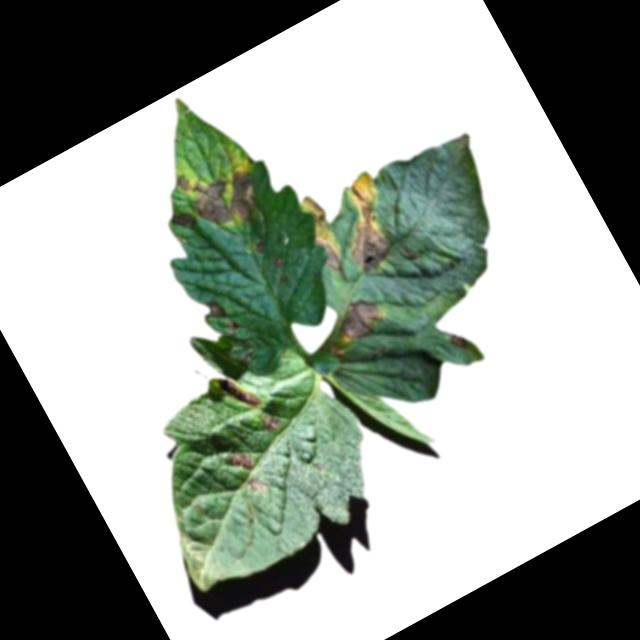Early_blight: (317, 169, 412, 277), (173, 144, 272, 243), (331, 292, 386, 342), (216, 371, 261, 419), (310, 230, 345, 274), (166, 204, 199, 239), (300, 191, 330, 228), (224, 446, 256, 478), (256, 409, 284, 437), (202, 297, 228, 326), (244, 473, 267, 499), (448, 330, 469, 352), (252, 238, 270, 257), (269, 254, 287, 272)
